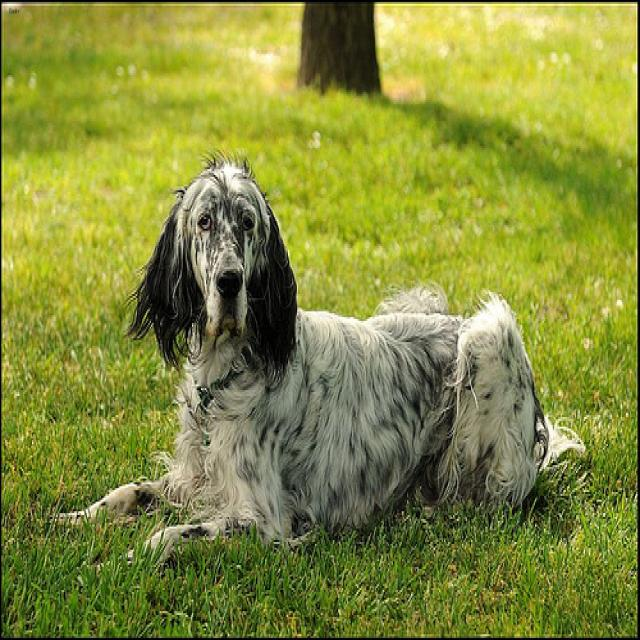dog-english_setter: (49, 133, 589, 596)
